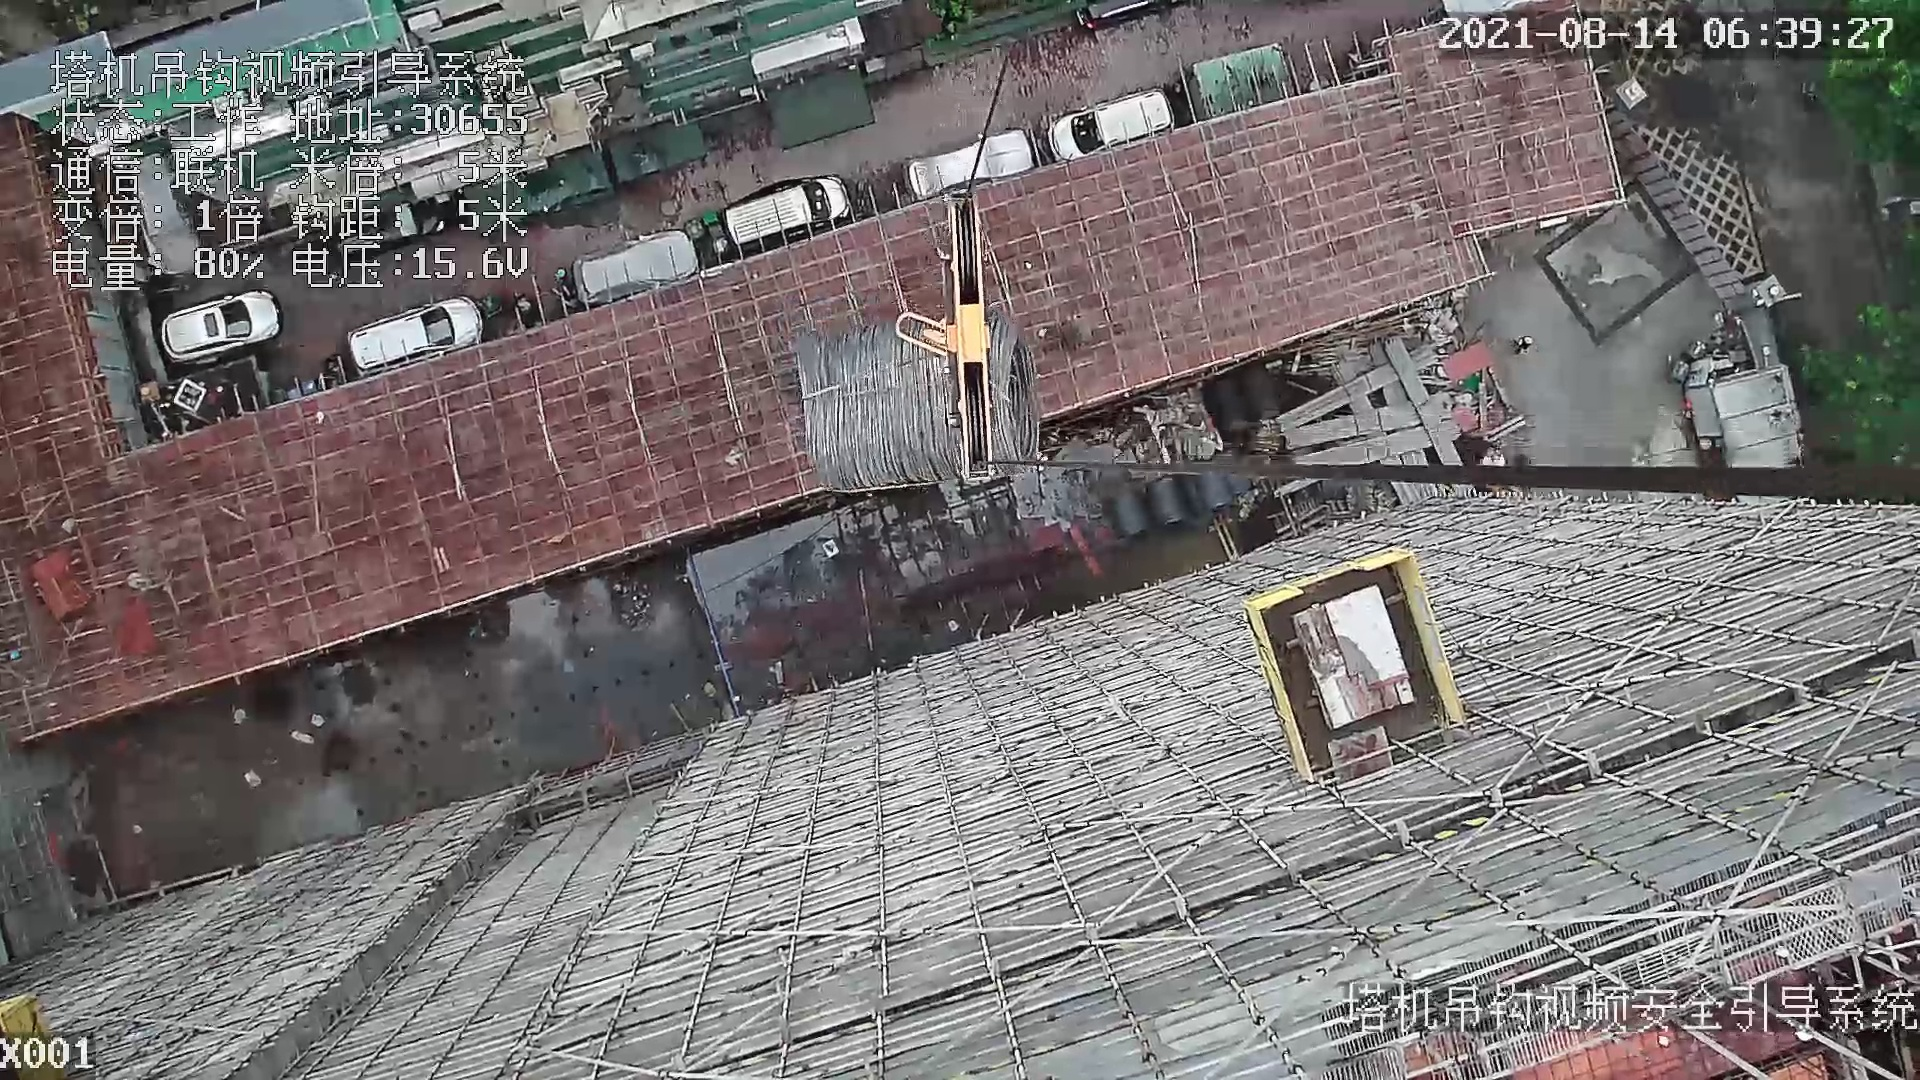hook: (897, 194, 1004, 480)
